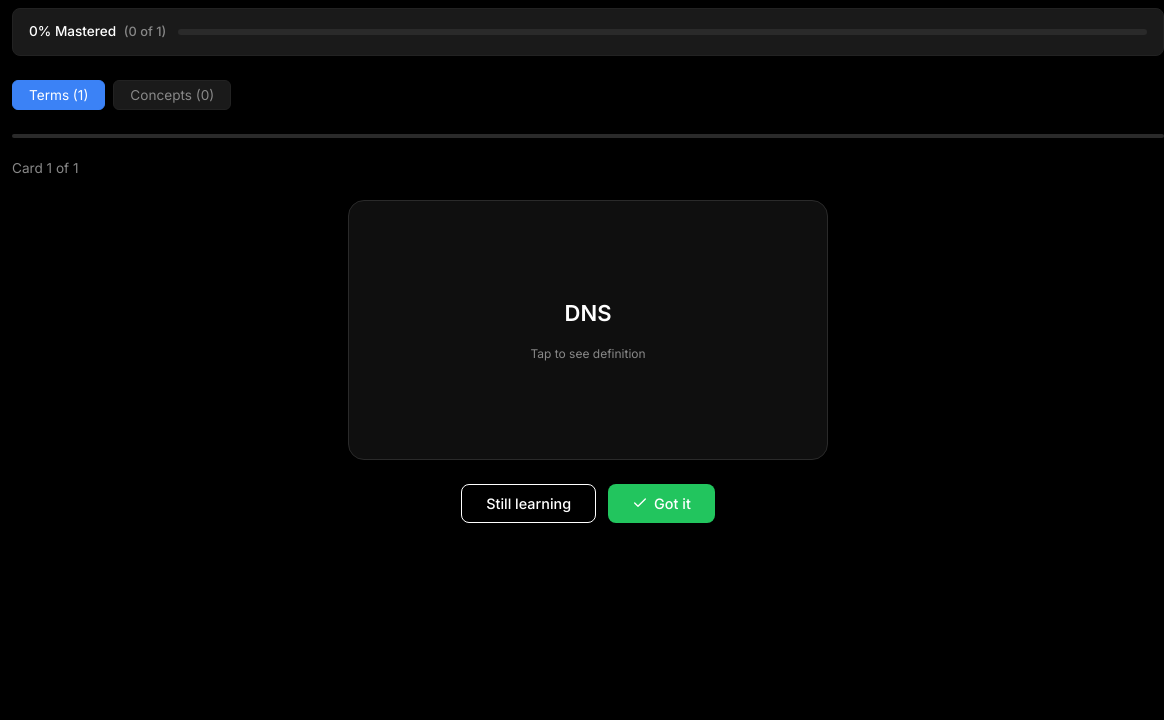
it: Flashcard Component › shows completion screen after going through all cards
# Click through the only card
Click the button "Got it".
click(661, 503)  # box [608,484,715,522]
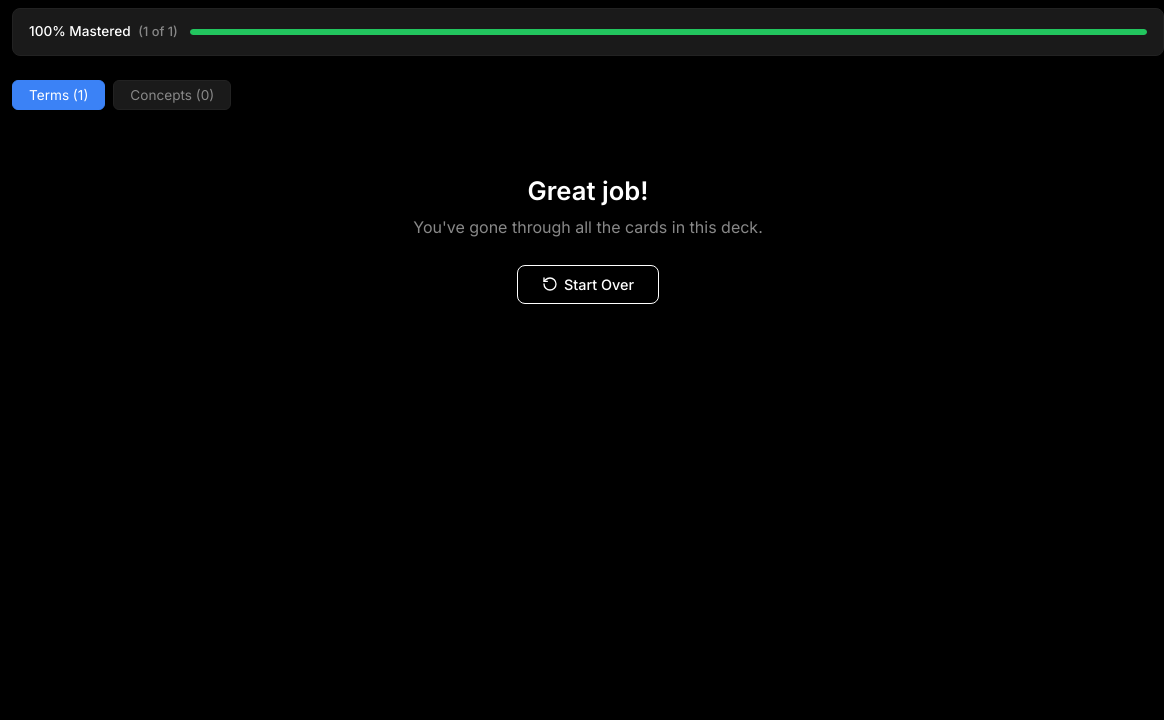
Check: the heading "Great job!" is shown, box [528,175,648,206]
